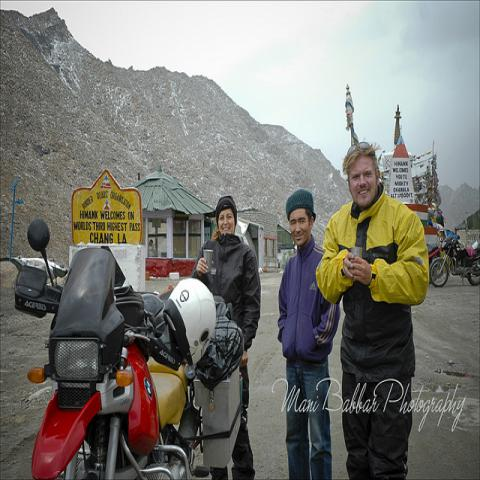motorcycle: (9, 220, 250, 479), (429, 233, 479, 290)
